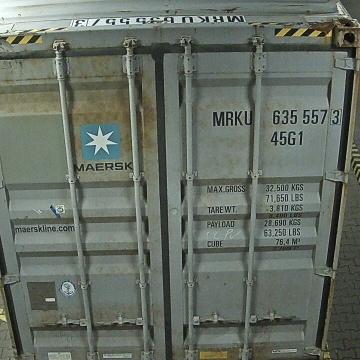serial_id: (213, 108, 341, 125)
